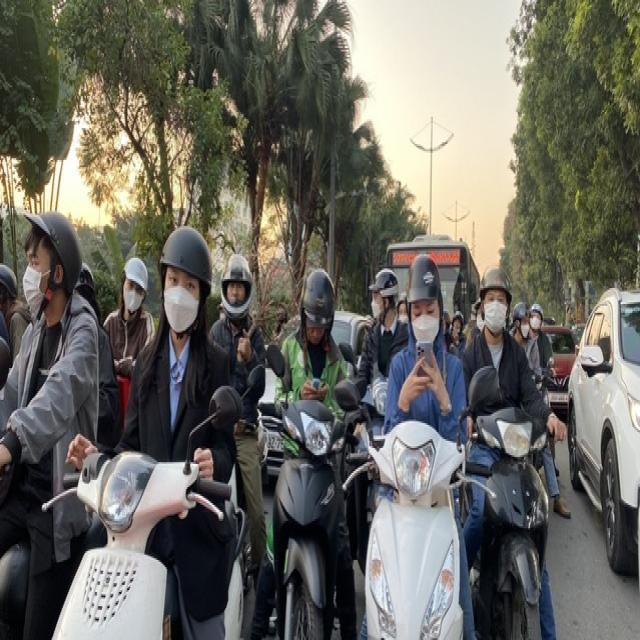1-2-helmet: (22, 212, 84, 291), (159, 225, 212, 286)
